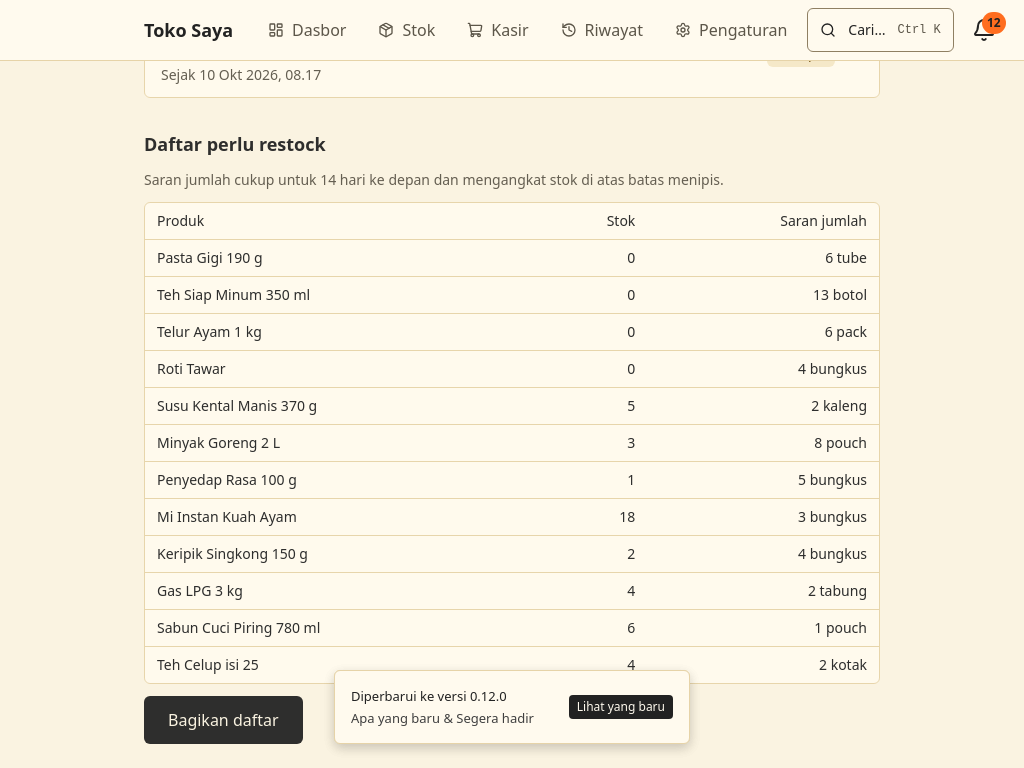
Bagikan daftar › tanpa navigator.share: daftar disalin dan muncul tautan WhatsApp
(page scrolled)
Click the button "Bagikan daftar": click(223, 720) 144,696 -> 303,744
(page scrolled)
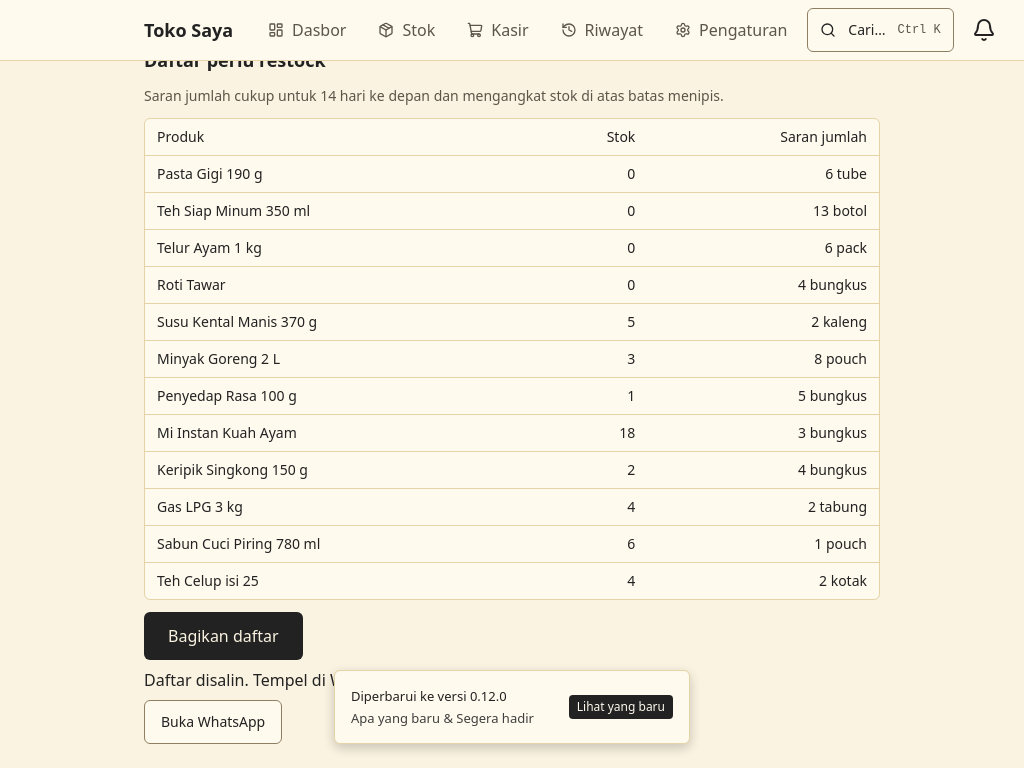
Now the message shows "Daftar disalin", box 144,669 -> 509,691
